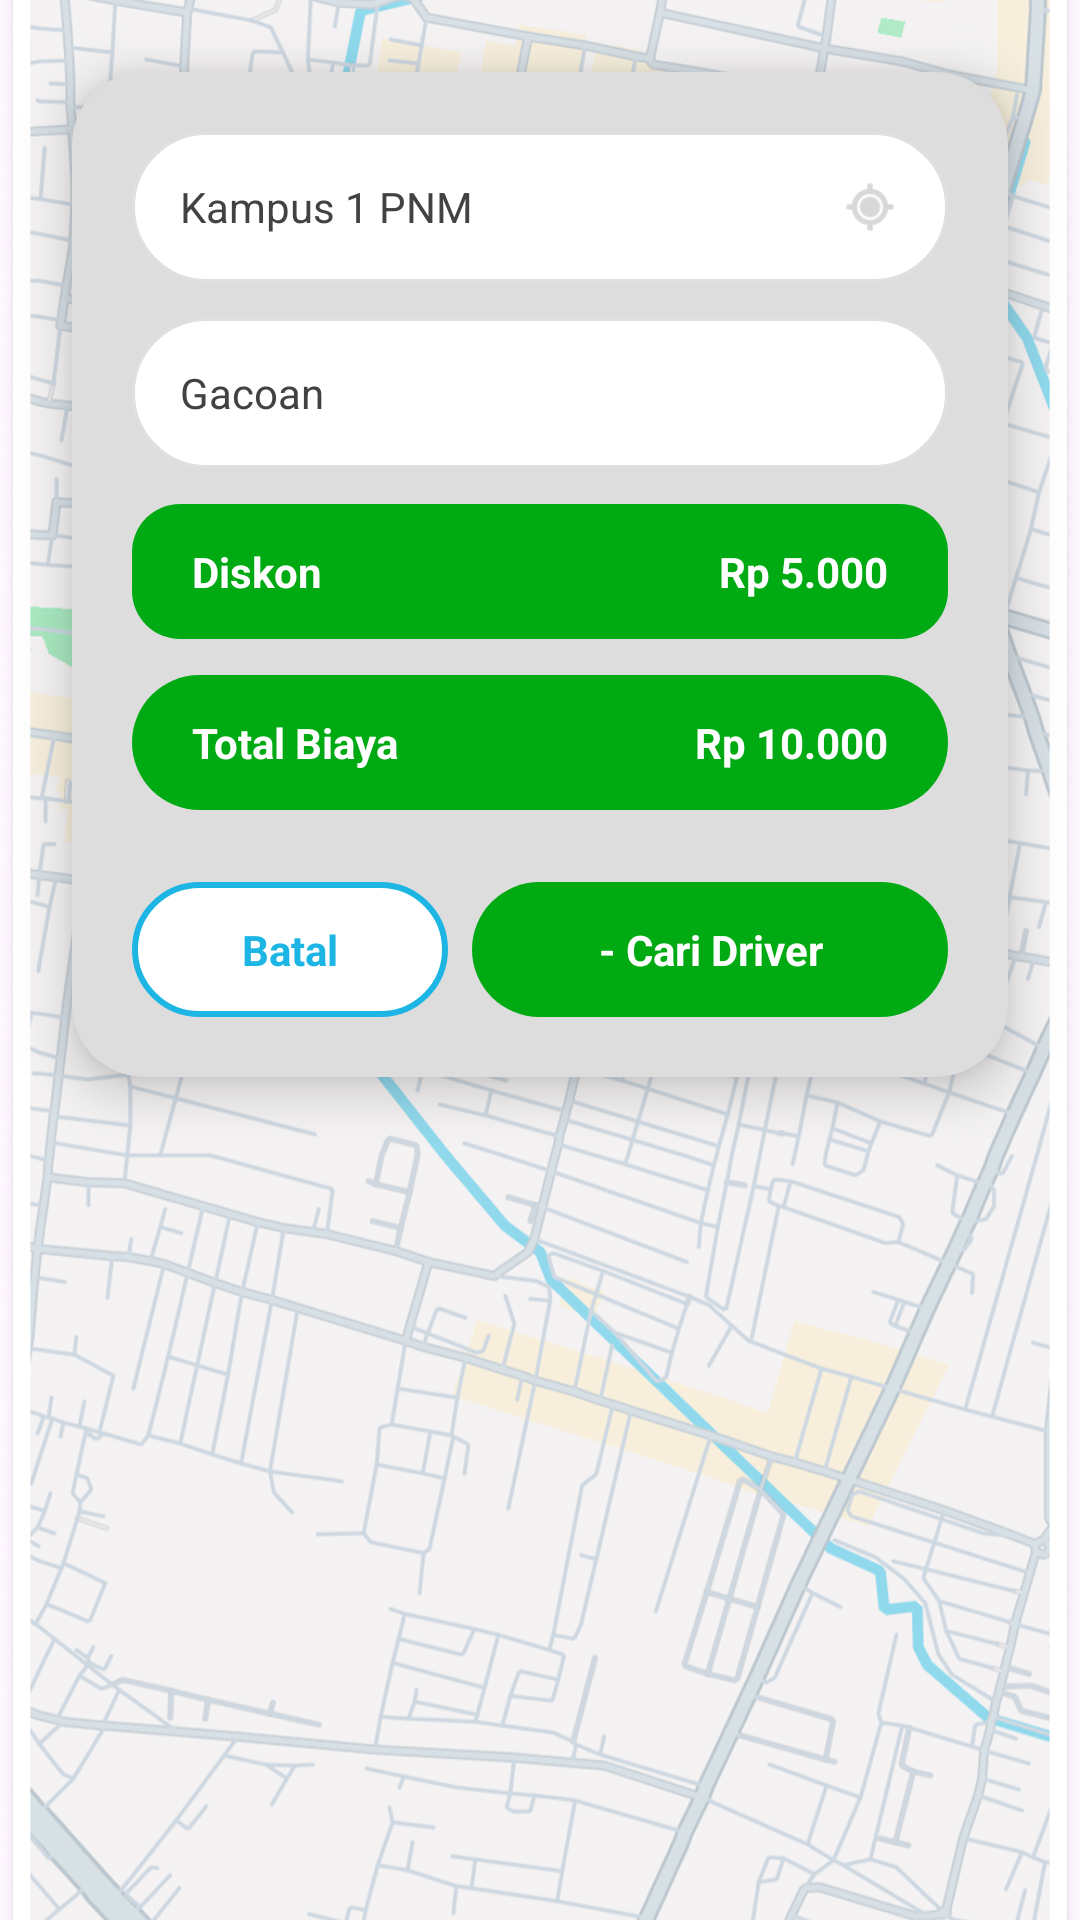

Named icons in this screenshot (1080px×1920px) and their bounding boxes, (x1=x1, y1=y1, x2=x2, y2=y2):
mylocation: (x1=846, y1=184, x2=893, y2=231)
